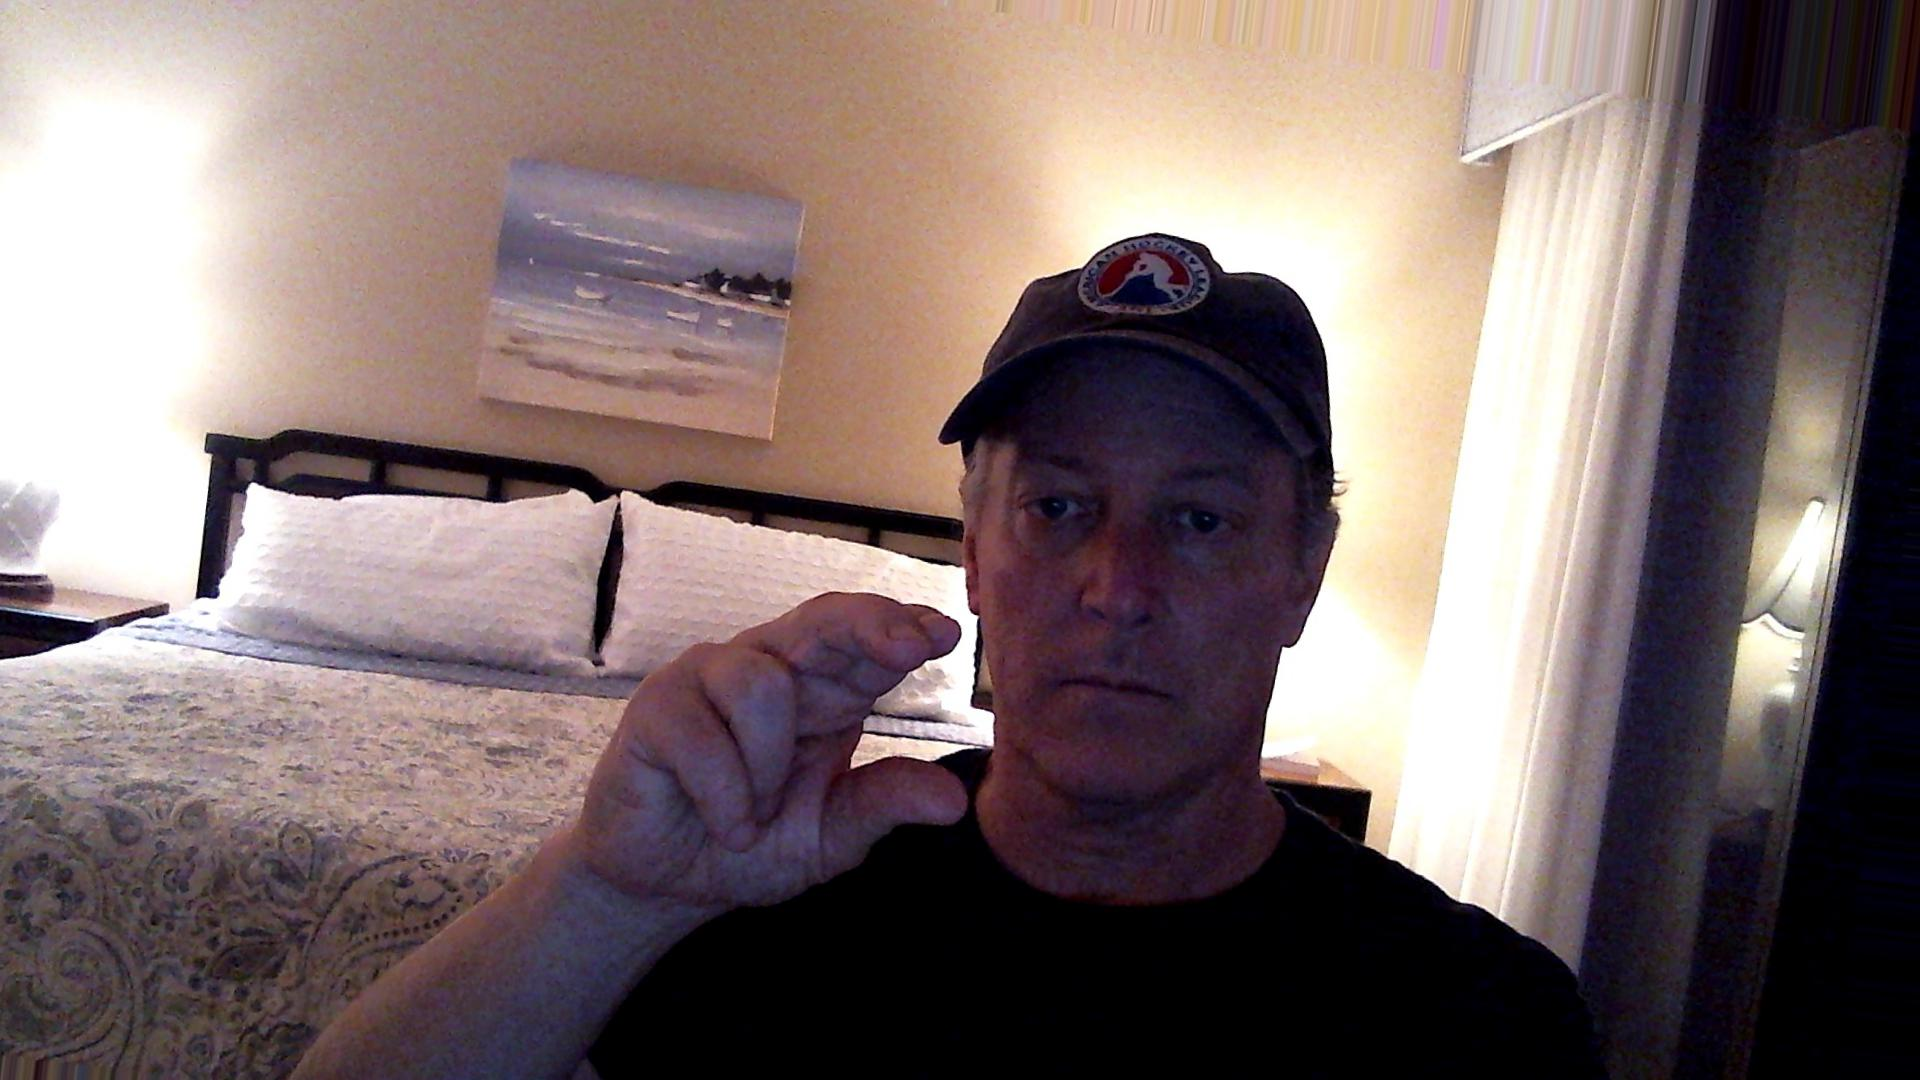No: (582, 566, 982, 938)
